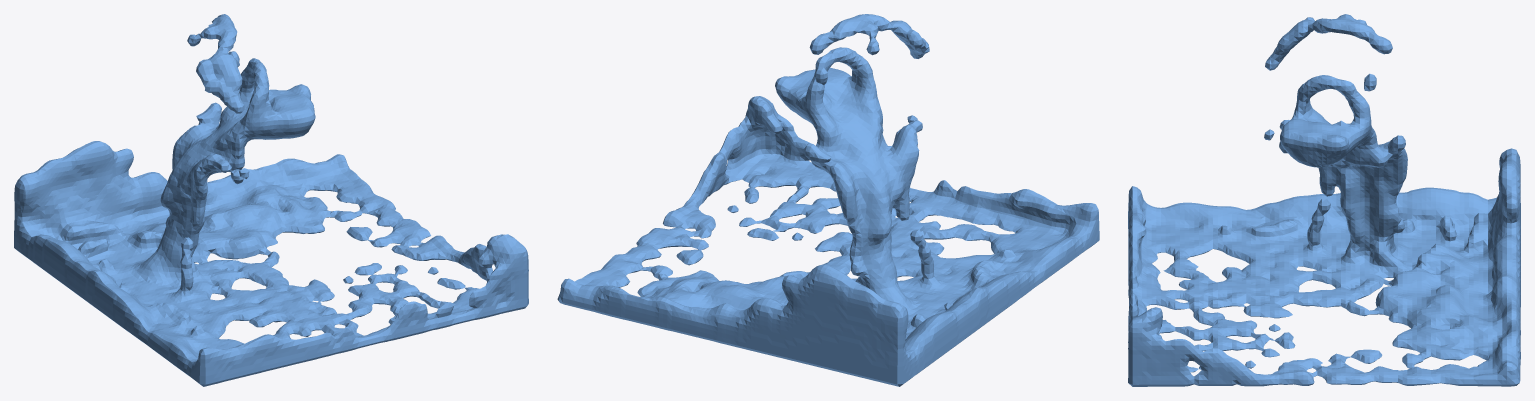
The model's file is water_0069.glb.
3 views of the same model, side by side, from view 1: azimuth 30°, elevation 25°; view 2: azimuth 150°, elevation 25°; view 3: azimuth 270°, elevation 25° (orthographic). The views are drawn at different scales.
Parts seen in each view (by area): view 1: Water_0069; view 2: Water_0069; view 3: Water_0069.
Boxes of the visible parts, bbox=[...] form: Water_0069: bbox=[14, 14, 528, 386]; Water_0069: bbox=[557, 14, 1099, 386]; Water_0069: bbox=[1128, 14, 1520, 386].
Bounding box in the file's own units: 4.83 × 3.63 × 4.83.
